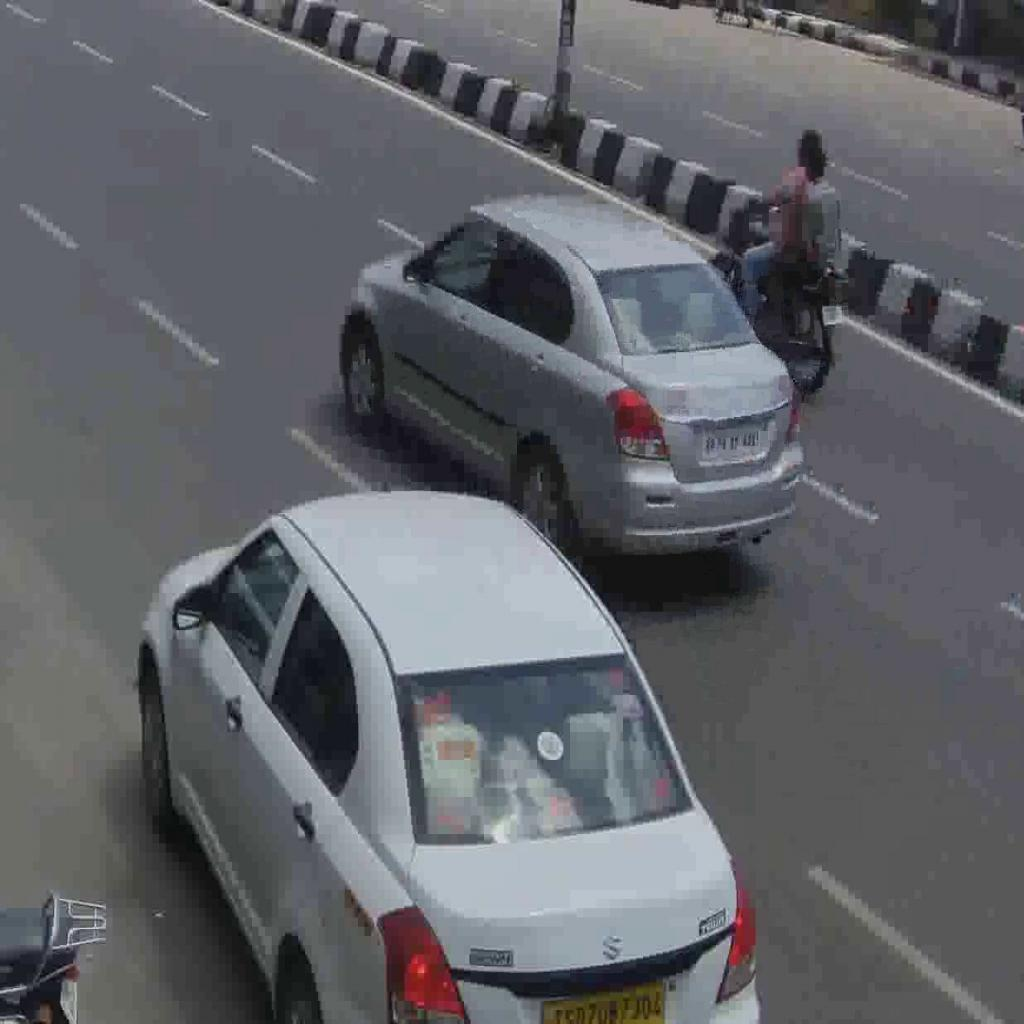bike: (709, 203, 844, 392)
lisc: (822, 305, 841, 326)
no_helmet: (794, 122, 824, 172), (803, 142, 828, 185)
rider: (735, 124, 825, 320), (756, 141, 838, 332)
